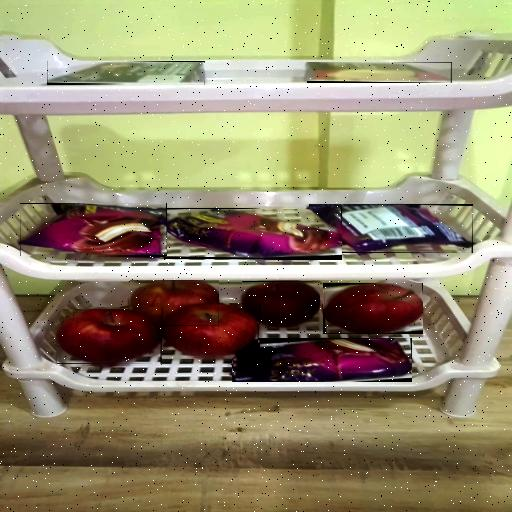Apple: (57, 309, 160, 364), (162, 304, 258, 357), (324, 283, 423, 334), (130, 281, 218, 326), (243, 282, 320, 325)
Choco Fills: (47, 63, 204, 84), (307, 62, 451, 81)
Choco Pie: (164, 209, 342, 258), (233, 338, 411, 382), (309, 204, 472, 252), (20, 205, 166, 256)
